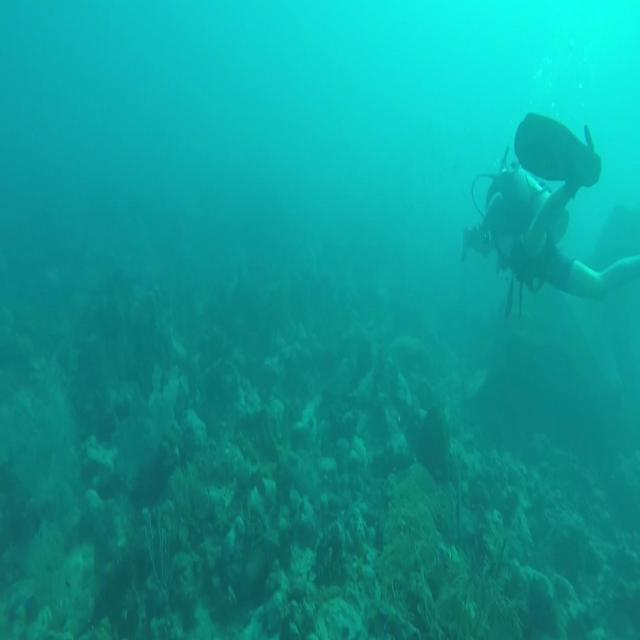human: (460, 111, 639, 316)
